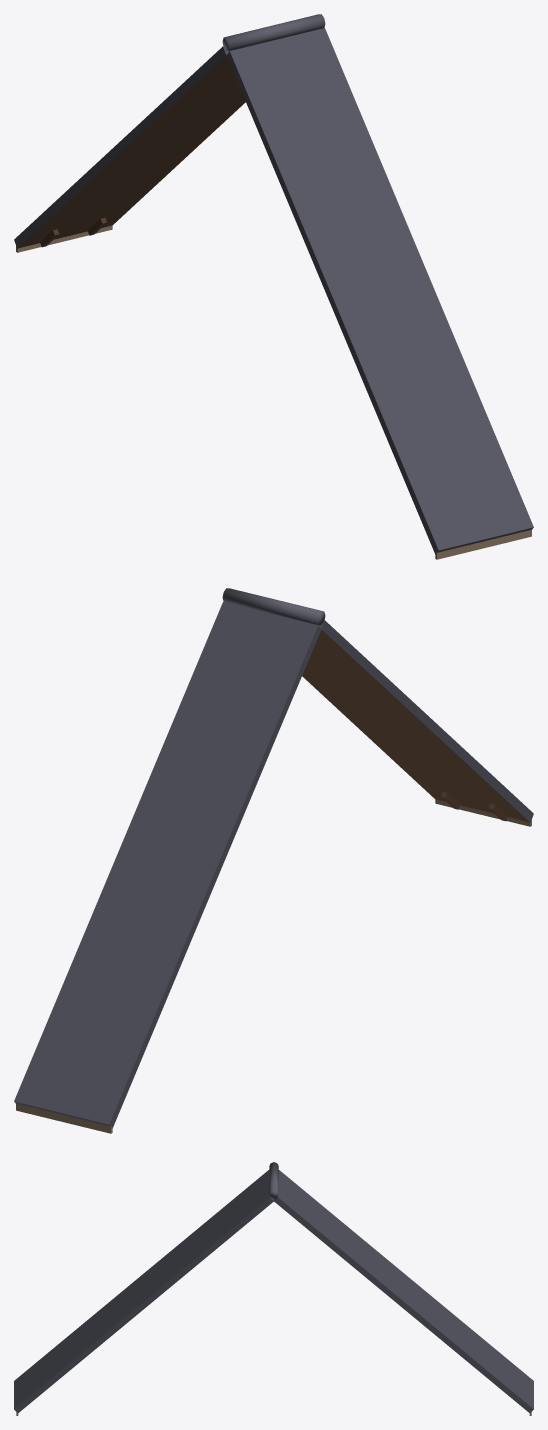
The model's file is kit_clapboard_slate_w7.glb.
3 views of the same model, one above another, from view 1: azimuth 30°, elevation 25°; view 2: azimuth 150°, elevation 25°; view 3: azimuth 270°, elevation 25° (orthographic). The views are drawn at different scales.
Visible parts, largest first — view 1: kit_clapboard_slate_w7; view 2: kit_clapboard_slate_w7; view 3: kit_clapboard_slate_w7.
Boxes of the visible parts, left/top/right/bottom form: kit_clapboard_slate_w7: left=14, top=14, right=533, bottom=559; kit_clapboard_slate_w7: left=14, top=588, right=533, bottom=1133; kit_clapboard_slate_w7: left=14, top=1162, right=533, bottom=1415.
Bounding box in the file's own units: 1 × 3.69 × 7.72.
